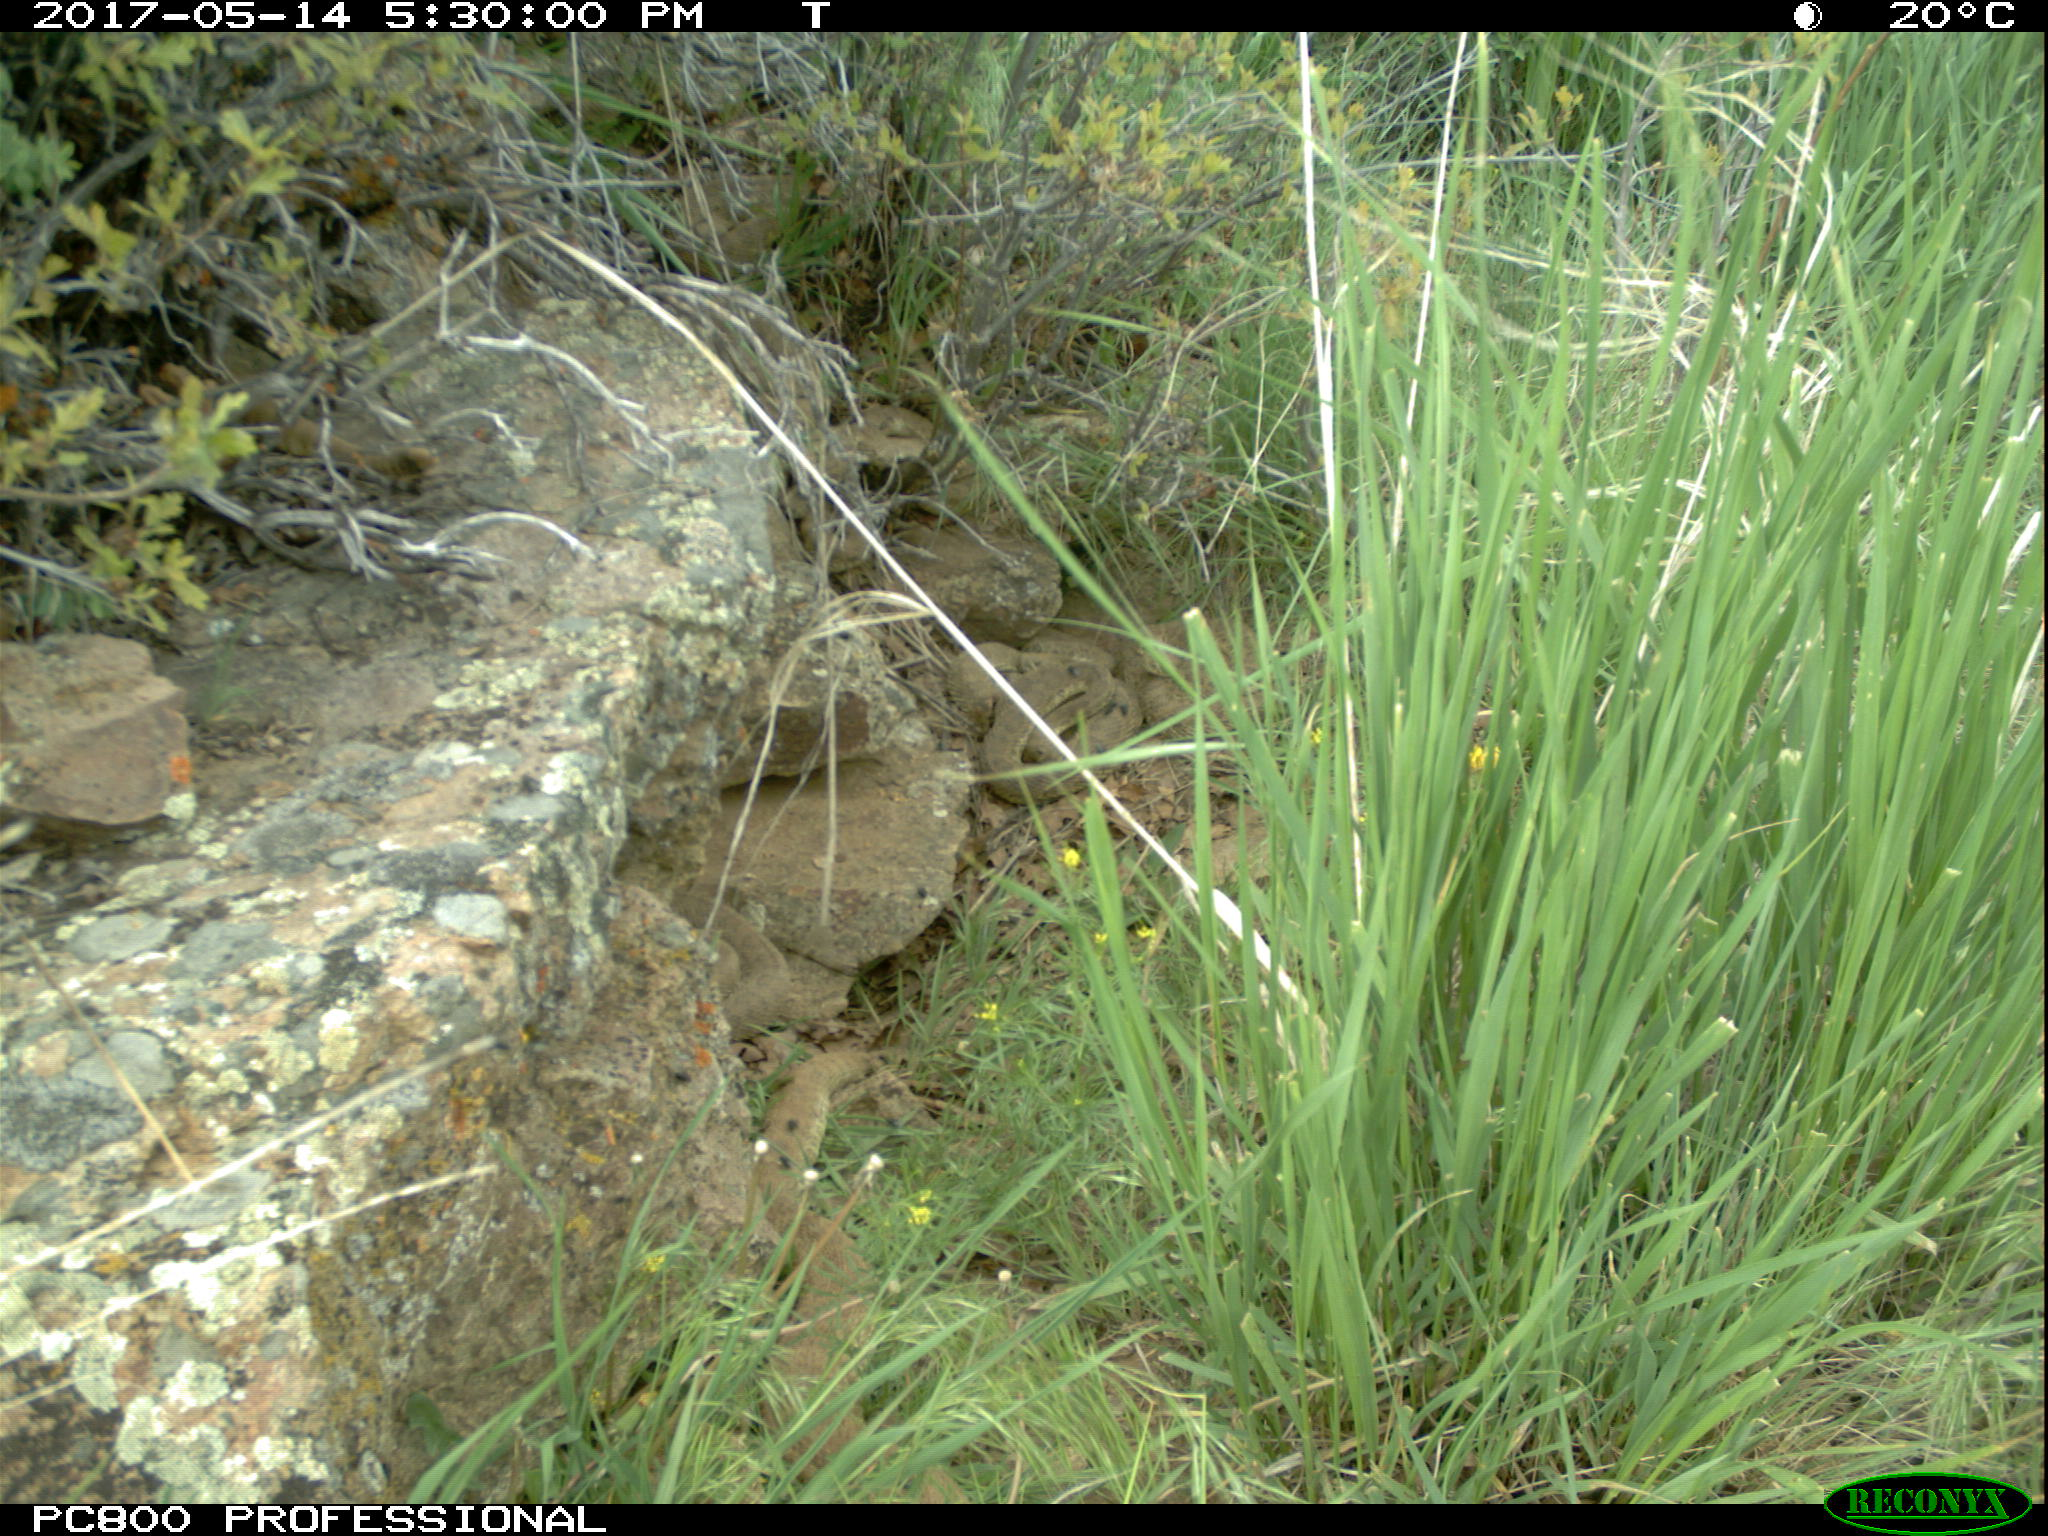snake: (748, 1044, 864, 1447), (947, 644, 1143, 805), (674, 884, 793, 1037), (669, 168, 808, 266), (1185, 779, 1297, 884), (840, 403, 942, 458)
